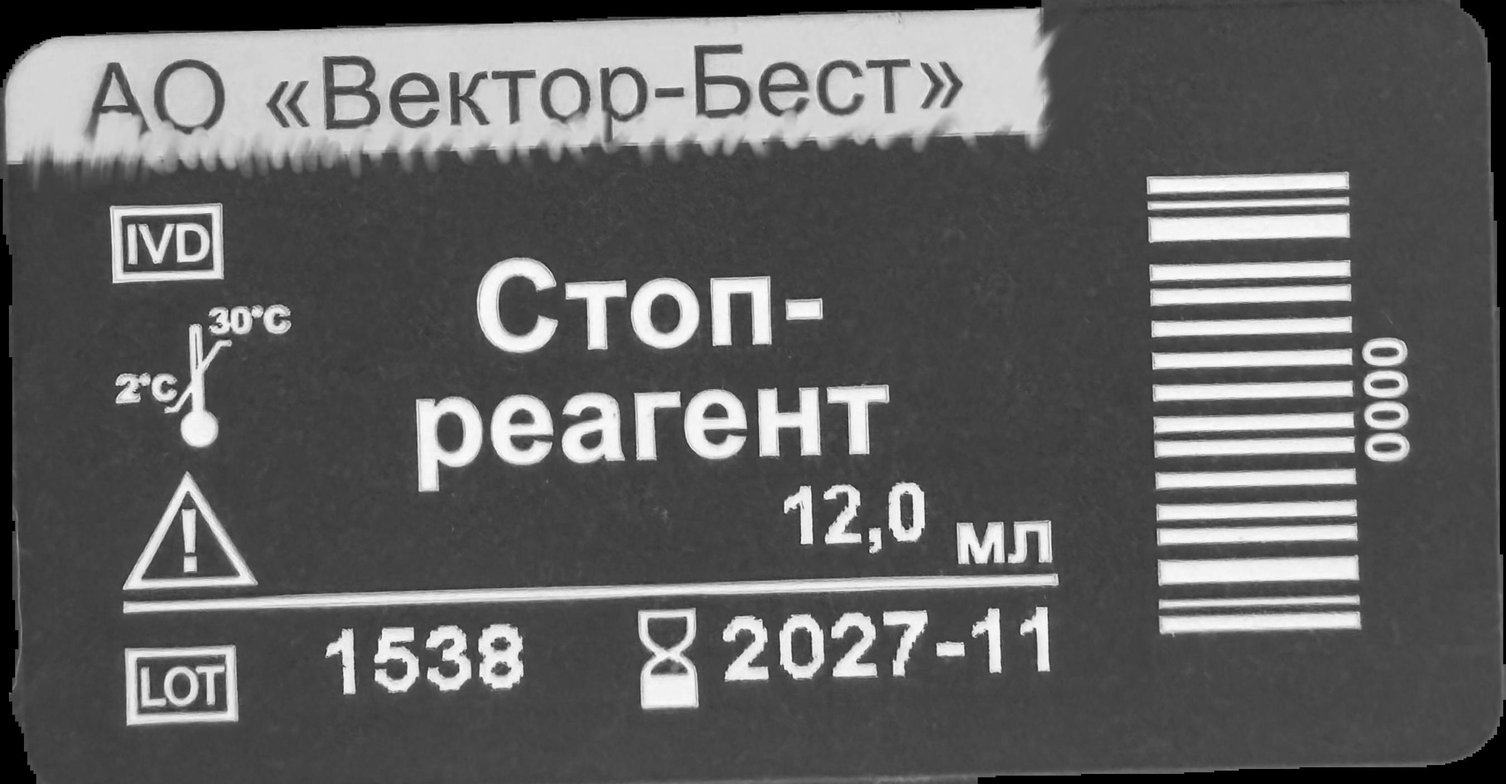something: (1142, 170, 1365, 636), (110, 300, 296, 451), (116, 466, 270, 596), (103, 201, 232, 283), (121, 644, 241, 732), (633, 605, 703, 716)
text: (404, 253, 896, 494), (75, 37, 969, 141), (778, 477, 1061, 576), (720, 608, 1062, 685), (321, 622, 531, 700), (1362, 332, 1418, 464)
